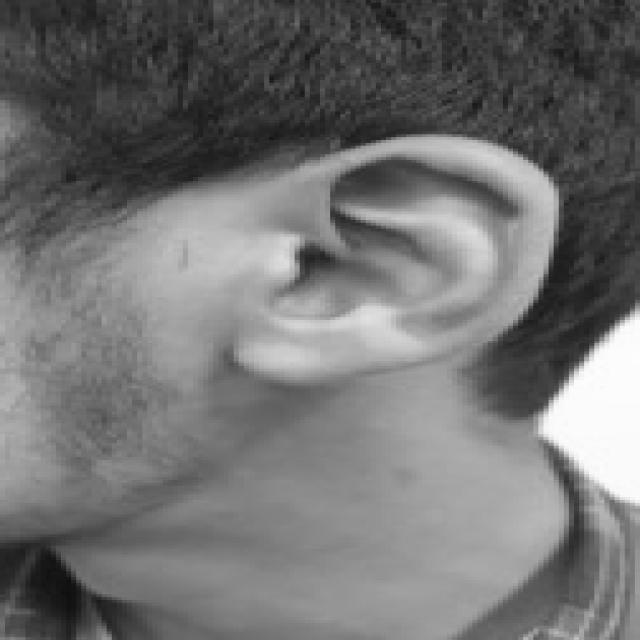ear: (234, 137, 543, 380)
